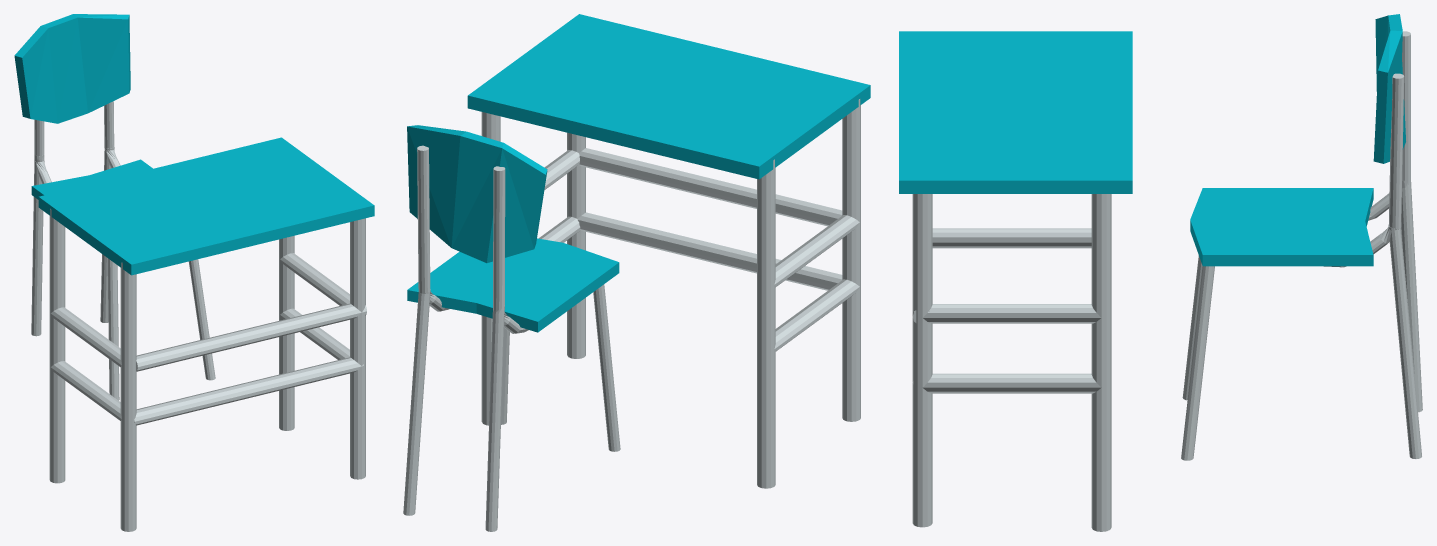
The model's file is school desk.glb.
3 views of the same model, side by side, from view 1: azimuth 30°, elevation 25°; view 2: azimuth 150°, elevation 25°; view 3: azimuth 270°, elevation 25° (orthographic). The views are drawn at different scales.
Parts seen in each view (by area): view 1: group1142061466, group1920711641, group657094310, group1392494020, group1854136480, group480697298, group1789292237, group1374110618, group1074460276, group1527351325, group455884042, group1084335508; view 2: group1142061466, group1920711641, group1392494020, group657094310, group480697298, group1789292237, group1854136480, group1074460276, group1527351325, group1374110618, group455884042, group1084335508; view 3: group1142061466, group1920711641, group1374110618, group1854136480, group1084335508, group455884042, group1074460276.
Boxes of the visible parts, x1=… form: group1142061466: x1=38, y1=137, x2=374, y2=275; group1920711641: x1=14, y1=14, x2=215, y2=400; group657094310: x1=120, y1=262, x2=136, y2=531; group1392494020: x1=49, y1=209, x2=65, y2=483; group1854136480: x1=350, y1=218, x2=365, y2=479; group480697298: x1=136, y1=303, x2=366, y2=371; group1789292237: x1=134, y1=357, x2=363, y2=425; group1374110618: x1=279, y1=235, x2=294, y2=430; group1074460276: x1=51, y1=361, x2=121, y2=420; group1527351325: x1=51, y1=307, x2=121, y2=367; group455884042: x1=280, y1=253, x2=349, y2=305; group1084335508: x1=280, y1=308, x2=349, y2=359; group1142061466: x1=467, y1=14, x2=870, y2=179; group1920711641: x1=403, y1=125, x2=620, y2=531; group1392494020: x1=757, y1=159, x2=775, y2=488; group657094310: x1=842, y1=99, x2=860, y2=421; group480697298: x1=567, y1=148, x2=842, y2=226; group1789292237: x1=577, y1=212, x2=842, y2=290; group1854136480: x1=567, y1=132, x2=585, y2=358; group1074460276: x1=774, y1=279, x2=859, y2=351; group1527351325: x1=774, y1=215, x2=859, y2=286; group1374110618: x1=481, y1=112, x2=500, y2=425; group455884042: x1=544, y1=150, x2=579, y2=189; group1084335508: x1=538, y1=216, x2=580, y2=242; group1142061466: x1=899, y1=31, x2=1132, y2=193; group1920711641: x1=1181, y1=14, x2=1422, y2=460; group1374110618: x1=1091, y1=194, x2=1111, y2=531; group1854136480: x1=912, y1=194, x2=932, y2=527; group1084335508: x1=923, y1=373, x2=1101, y2=393; group455884042: x1=923, y1=304, x2=1100, y2=323; group1074460276: x1=932, y1=228, x2=1091, y2=248.
Size of the model in its own units: 0.9913 by 1.36 by 1.47.
